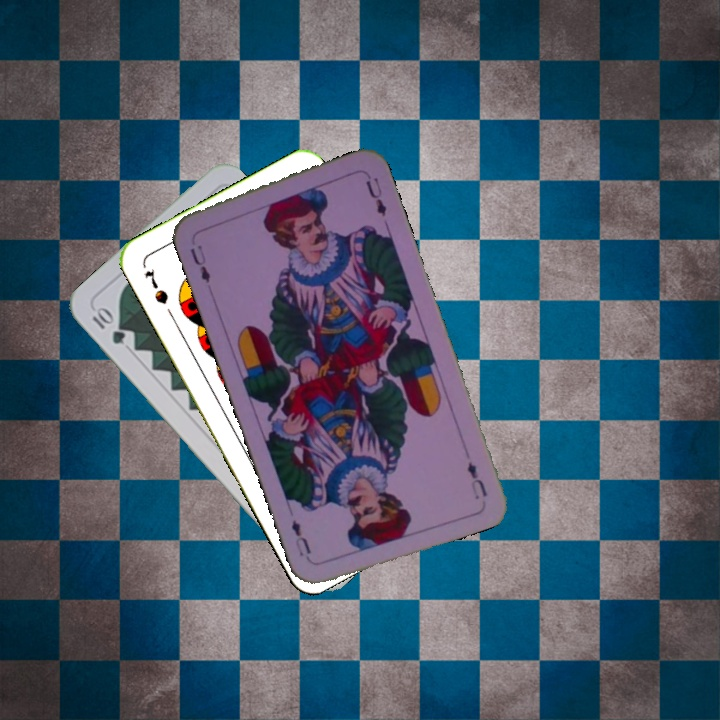EU: (186, 240, 213, 286), (463, 457, 490, 503)
G10: (88, 303, 128, 347)
S7: (140, 264, 171, 307)
